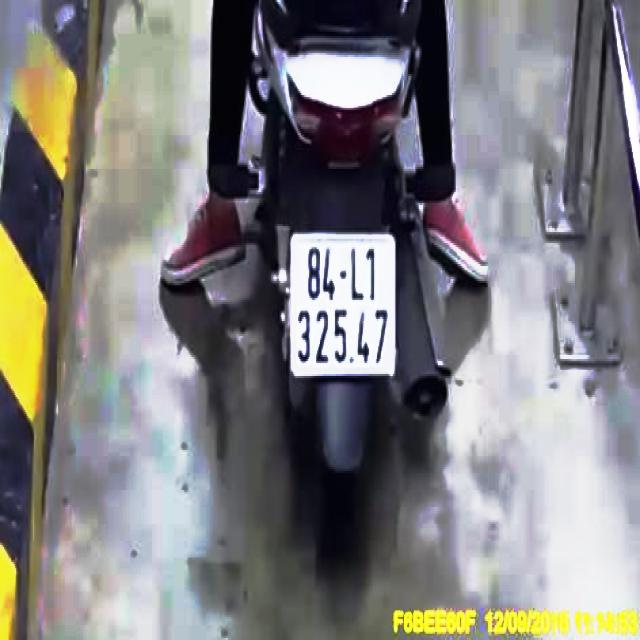license_plate: (293, 236, 396, 372)
